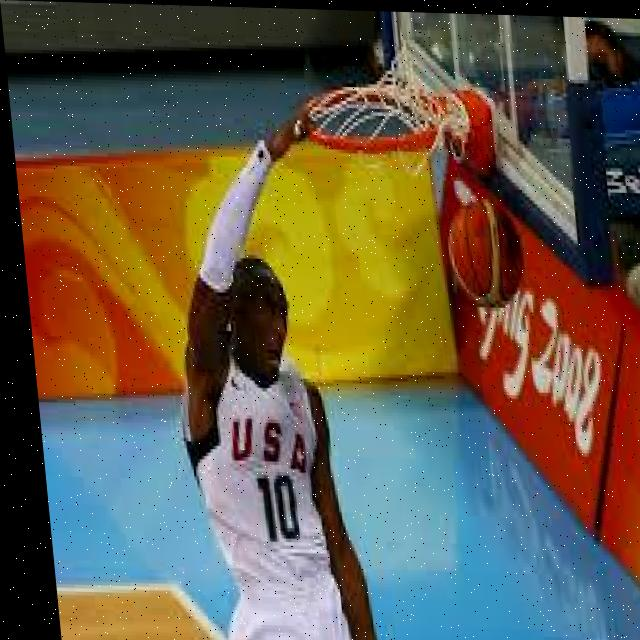basketball: (446, 201, 526, 305)
hoop: (298, 86, 446, 153)
